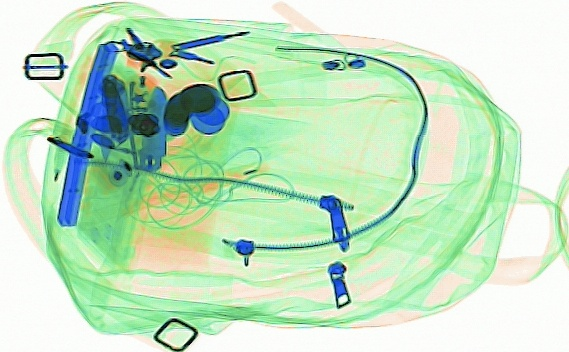knife: (133, 83, 169, 173), (100, 73, 132, 145)
